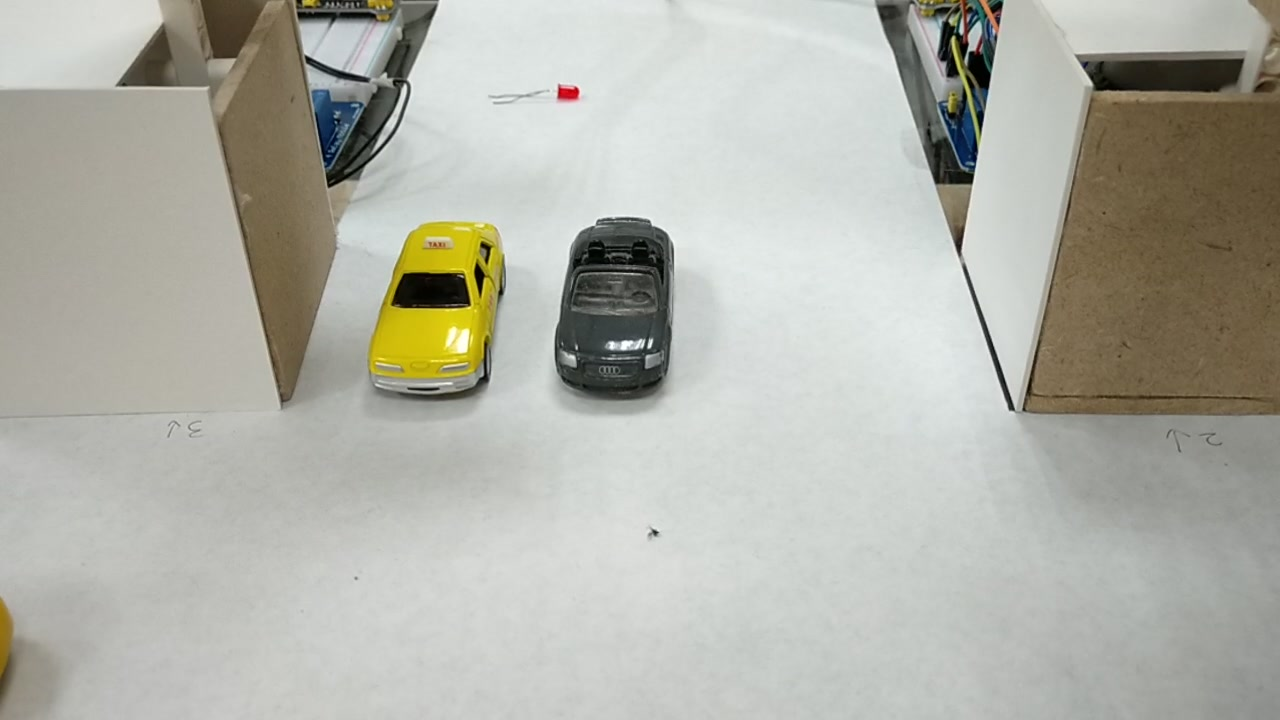car: (366, 220, 514, 398), (549, 222, 675, 386)
